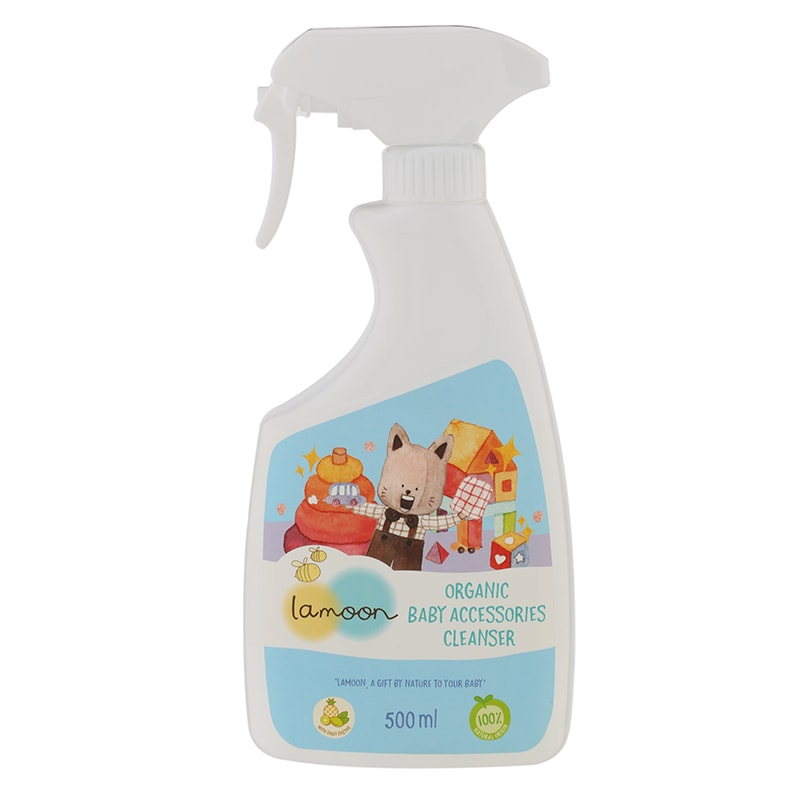Cleaning_solution: (235, 17, 579, 775)
